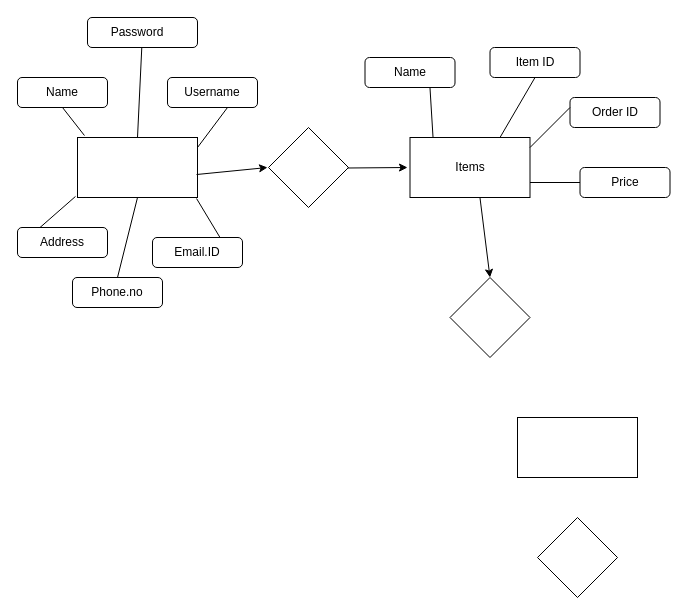
Image size: 688x615. Some labels were removed from this diagram. Each missing label, with the box of its shape:
Customer: (76, 136, 198, 198)
Customize: (449, 276, 530, 358)
Orders: (268, 126, 348, 208)
Payment mode: (536, 516, 618, 598)
Toppings: (516, 416, 638, 478)
